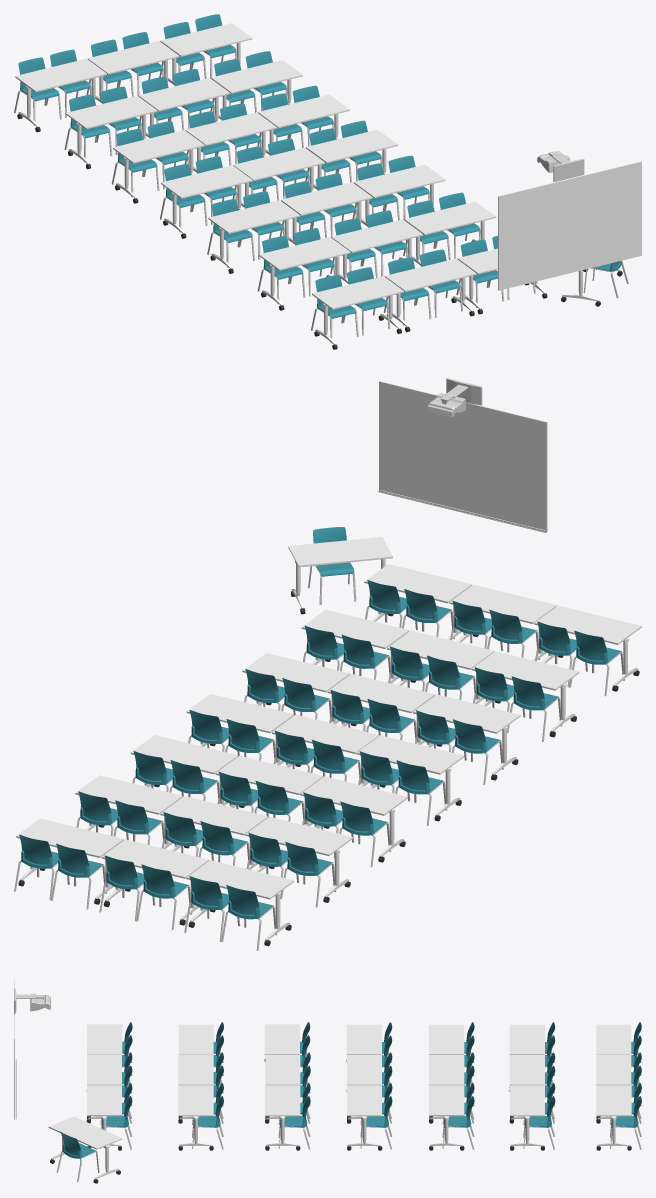
The model's file is SALLE_A4.fbx.
3 views of the same model, one above another, from view 1: azimuth 30°, elevation 25°; view 2: azimuth 150°, elevation 25°; view 3: azimuth 270°, elevation 25° (orthographic). The views are drawn at different scales.
Visible parts, largest first — view 1: bureaux_doubles_A10, chaise_dossier_A4, tableau_A4, chaise_pieds_A4, tableau_projo_A4, bureaux_doubles_roues_A10; view 2: bureaux_doubles_A10, chaise_dossier_A4, tableau_A4, chaise_pieds_A4, tableau_projo_A4, bureaux_doubles_roues_A10; view 3: bureaux_doubles_A10, chaise_dossier_A4, chaise_pieds_A4, bureaux_doubles_roues_A10, tableau_projo_A4.
Part boxes in pixels (left/top/right/bottom): bureaux_doubles_A10: left=15, top=23, right=621, bottom=344; chaise_dossier_A4: left=18, top=14, right=621, bottom=318; tableau_A4: left=497, top=161, right=641, bottom=290; chaise_pieds_A4: left=14, top=50, right=628, bottom=343; tableau_projo_A4: left=537, top=151, right=584, bottom=181; bureaux_doubles_roues_A10: left=17, top=81, right=622, bottom=349; bureaux_doubles_A10: left=16, top=537, right=641, bottom=940; chaise_dossier_A4: left=19, top=527, right=621, bottom=919; tableau_A4: left=378, top=381, right=547, bottom=532; chaise_pieds_A4: left=14, top=565, right=624, bottom=950; tableau_projo_A4: left=427, top=378, right=482, bottom=417; bureaux_doubles_roues_A10: left=18, top=591, right=639, bottom=946; bureaux_doubles_A10: left=48, top=1024, right=631, bottom=1179; chaise_dossier_A4: left=60, top=1022, right=641, bottom=1158; chaise_pieds_A4: left=56, top=1051, right=641, bottom=1181; bureaux_doubles_roues_A10: left=50, top=1059, right=631, bottom=1183; tableau_projo_A4: left=14, top=988, right=50, bottom=1014.
Size of the model in its own units: 487 by 270 by 1042.
